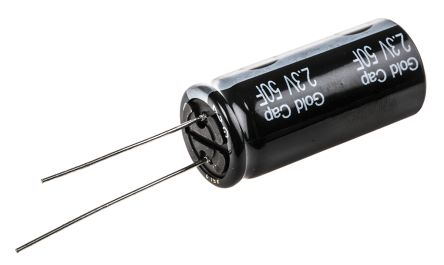capacitor: (126, 12, 433, 198)
